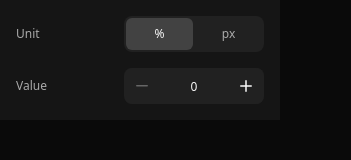
Scenario: UnitValue Component › Hover behavior › should show tooltip when hovering over disabled increment button at value 100 in % mode
Replace the text in the field with "100" at (194, 86), box [160,68,228,104]
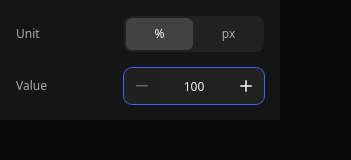
Leave the field, box [160,68,228,104]
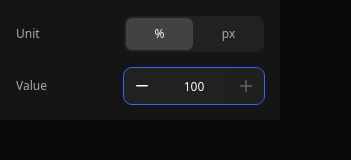
Expected: the 4th button is disabled
Hover over the 4th button at (246, 86), box [228,68,264,104]
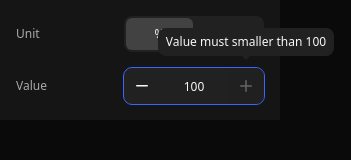
Expected: the text "Value must smaller than 100" is shown, [158,28,334,56]
